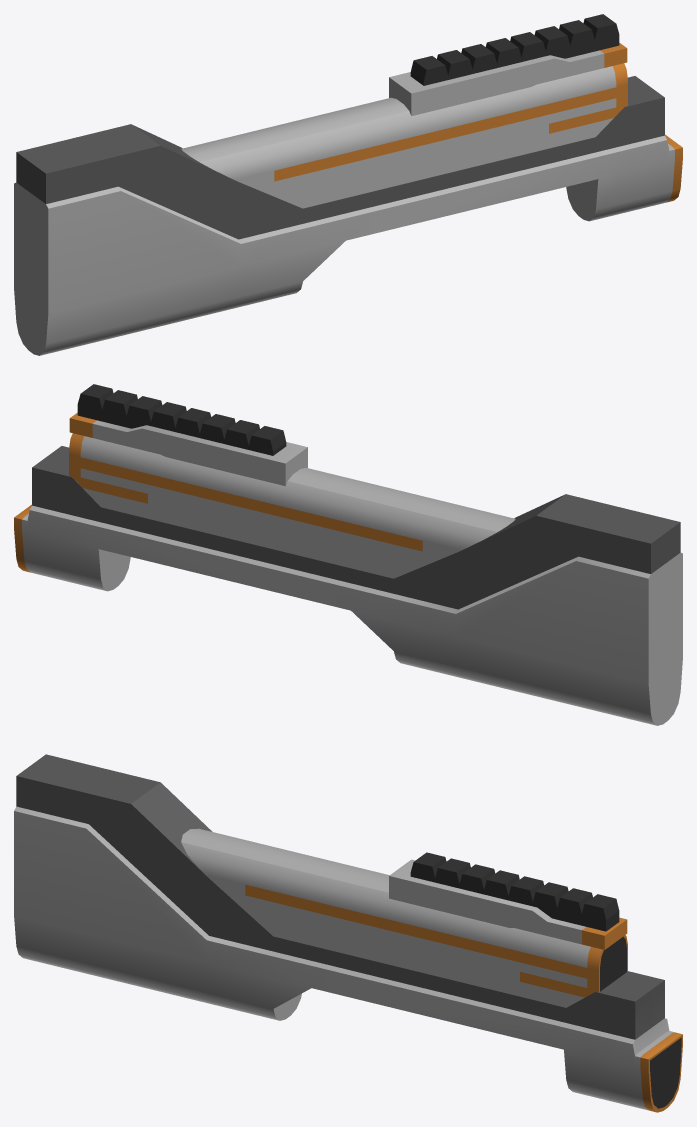
The model's file is Body_Grenade_3.gltf.
3 views of the same model, one above another, from view 1: azimuth 30°, elevation 25°; view 2: azimuth 150°, elevation 25°; view 3: azimuth 330°, elevation 25° (orthographic).
Parts seen in each view (by area): view 1: Body_Grenade_3; view 2: Body_Grenade_3; view 3: Body_Grenade_3.
Boxes of the visible parts, box(x1,y1,x2,y2) form: Body_Grenade_3: box(14, 14, 682, 355); Body_Grenade_3: box(14, 384, 682, 725); Body_Grenade_3: box(14, 754, 682, 1112).
Bounding box in the file's own units: 1.46 × 0.4225 × 0.137.
